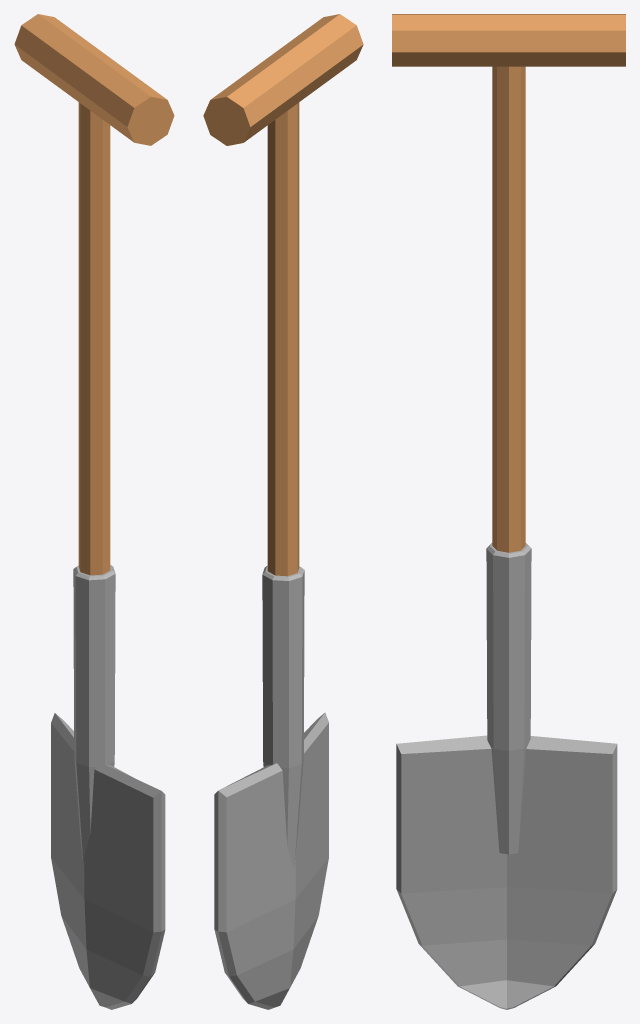
File: Shovel.fbx
3 views of the same model, side by side, from view 1: azimuth 30°, elevation 25°; view 2: azimuth 150°, elevation 25°; view 3: azimuth 270°, elevation 25° (orthographic). The views are drawn at different scales.
Parts seen in each view (by area): view 1: Shovel; view 2: Shovel; view 3: Shovel.
Boxes of the visible parts, box(x1,y1,x2,y2) form: Shovel: box(14, 14, 174, 1009); Shovel: box(203, 14, 363, 1009); Shovel: box(392, 14, 625, 1009).
Bounding box in the file's own units: 7.83 × 152 × 32.59.
